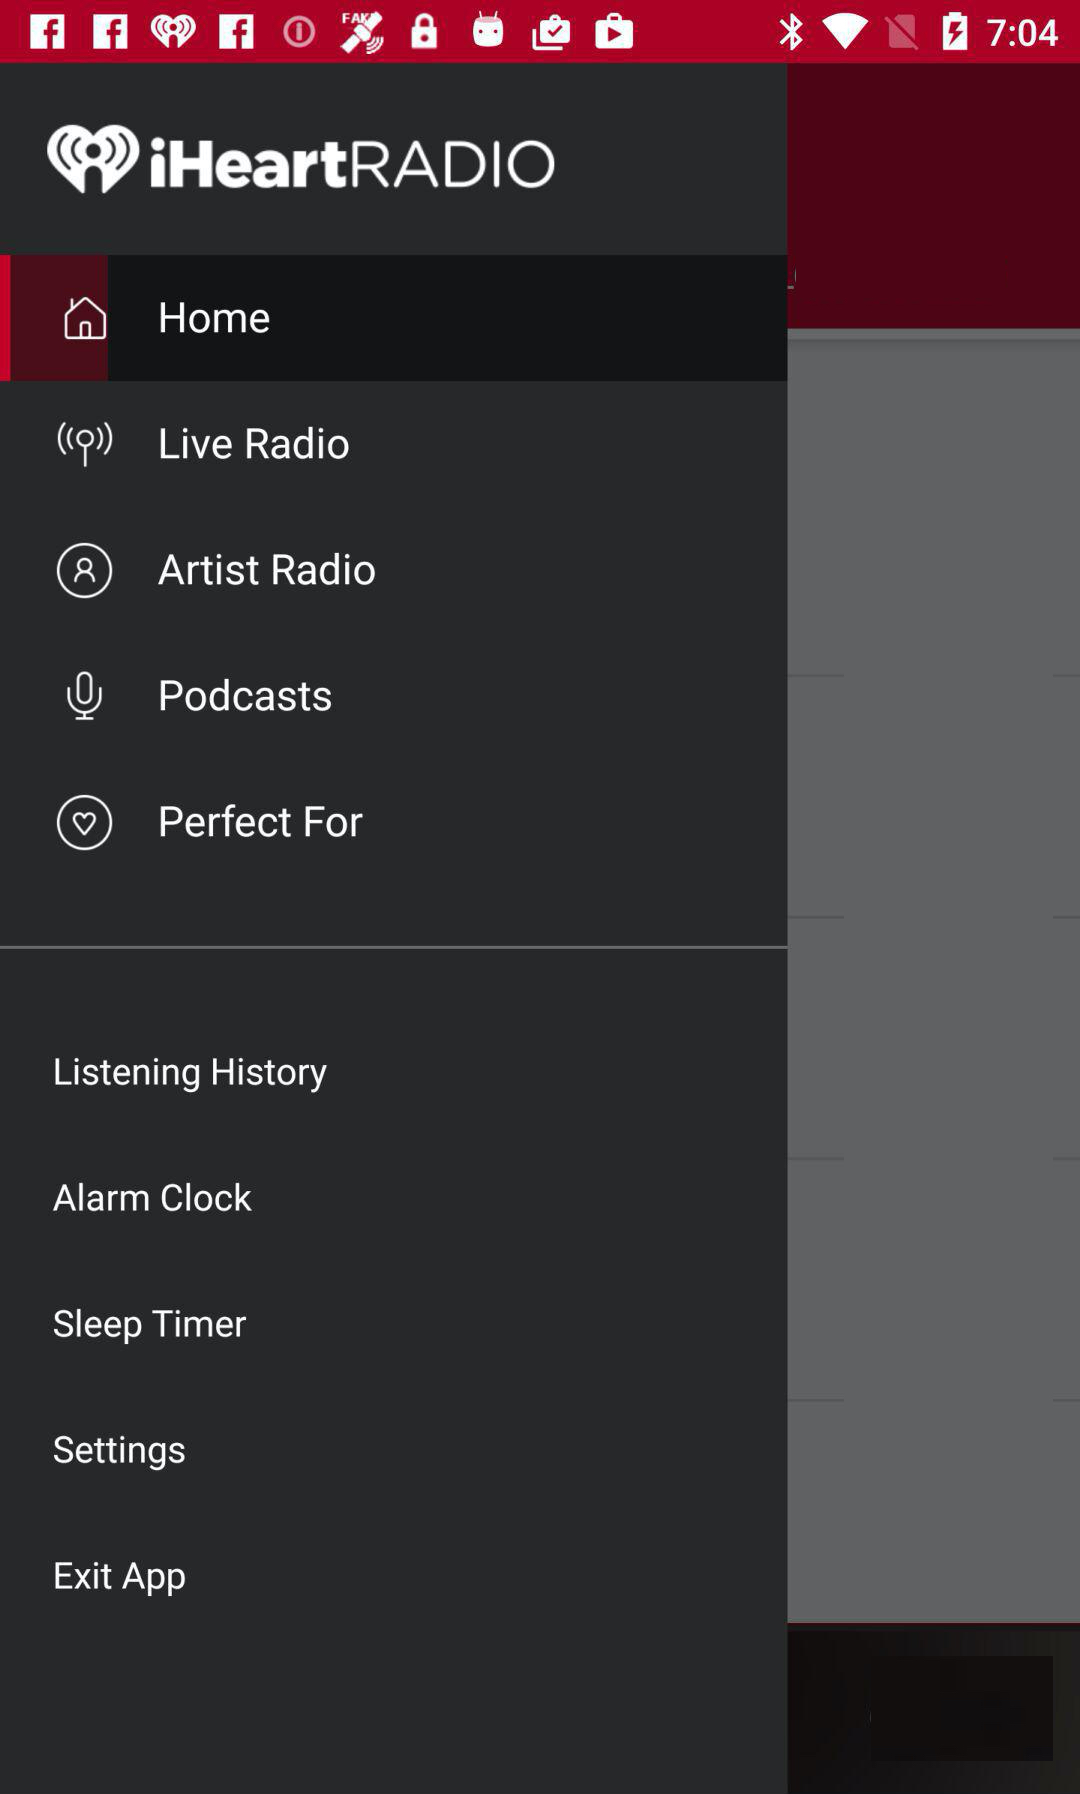Drawer: (1, 65, 789, 1794)
Icon: (56, 794, 114, 852), (56, 542, 114, 600), (64, 296, 108, 341), (67, 671, 104, 721)
Image: (45, 123, 557, 197), (56, 422, 115, 470)
Text: (54, 1056, 329, 1096), (158, 552, 377, 587), (53, 1307, 249, 1345), (159, 803, 365, 839), (159, 425, 351, 461), (53, 1181, 254, 1214), (159, 678, 333, 712), (55, 1559, 187, 1598), (53, 1435, 187, 1472), (160, 301, 272, 334)
UpperTaskBar: (1, 1, 1080, 64)
